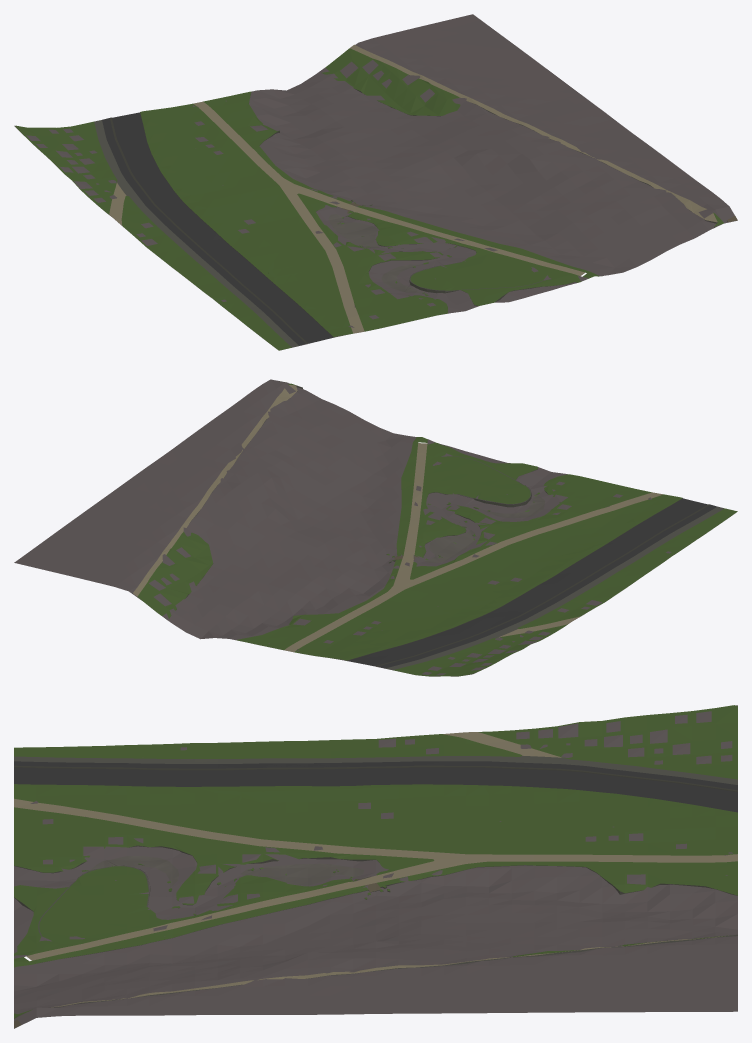
3 renders of one model, top to bottom at view 1: azimuth 30°, elevation 25°; view 2: azimuth 150°, elevation 25°; view 3: azimuth 270°, elevation 25°, orthographic. The views are drawn at different scales.
Parts seen in each view (by area): view 1: c_m08_m15, append:c_m08_m15; view 2: c_m08_m15, append:c_m08_m15; view 3: c_m08_m15, append:c_m08_m15.
Boxes of the visible parts, <box> form: c_m08_m15: <box>14,14,737,350</box>; append:c_m08_m15: <box>328,214,425,293</box>; c_m08_m15: <box>14,379,737,676</box>; append:c_m08_m15: <box>424,495,544,562</box>; c_m08_m15: <box>14,705,737,1028</box>; append:c_m08_m15: <box>89,856,363,887</box>.
Size of the model in its own units: 128 by 10.34 by 128.
